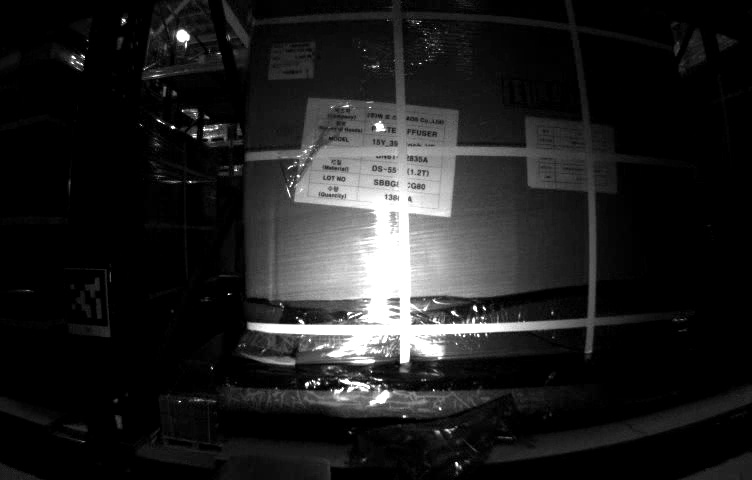True Barcode: (273, 43, 317, 80)
